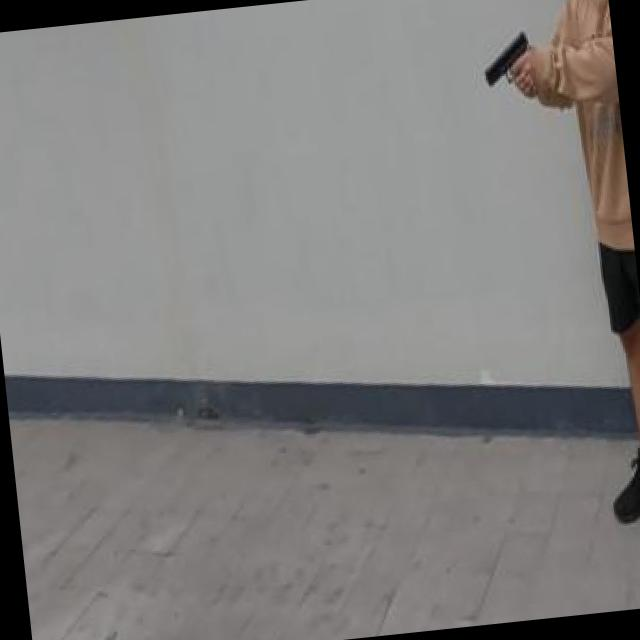Guns: (464, 11, 553, 122)
